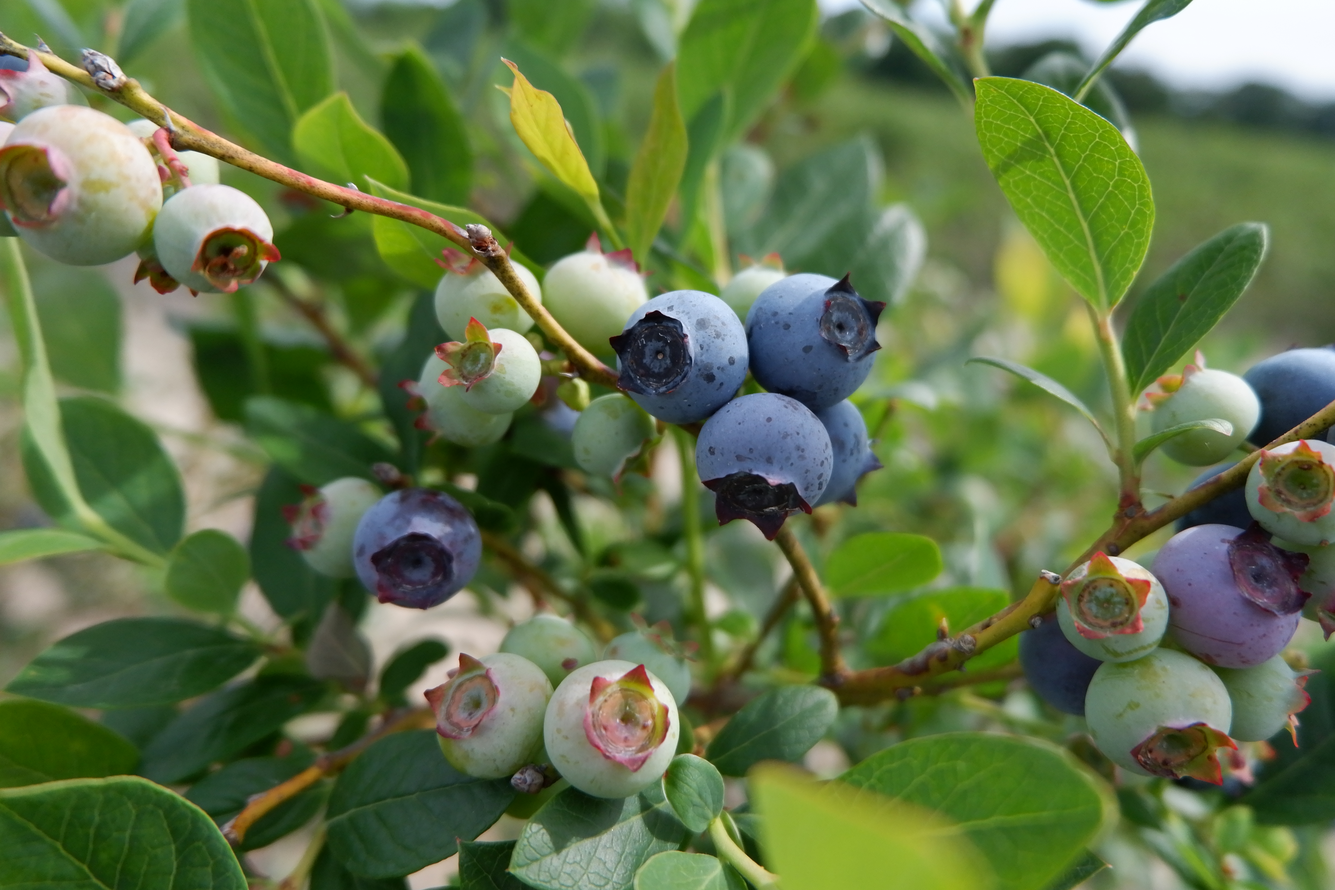Immature: (5, 107, 162, 265), (1090, 650, 1233, 778), (543, 665, 676, 798), (431, 658, 549, 776), (153, 188, 273, 290), (432, 317, 544, 417), (399, 351, 512, 450), (1152, 356, 1256, 463), (1063, 557, 1170, 659), (543, 241, 643, 348), (436, 247, 542, 337), (286, 480, 381, 580), (124, 118, 223, 209), (1249, 442, 1334, 544), (1217, 656, 1307, 741), (0, 48, 92, 126), (498, 618, 595, 685), (575, 397, 654, 479), (607, 622, 686, 699), (724, 254, 787, 319), (134, 232, 181, 296)
Mature: (1158, 525, 1306, 665), (699, 396, 830, 532), (747, 276, 881, 406), (614, 293, 745, 422), (354, 491, 476, 607), (1244, 349, 1330, 448), (1022, 612, 1102, 715), (816, 403, 881, 504)
